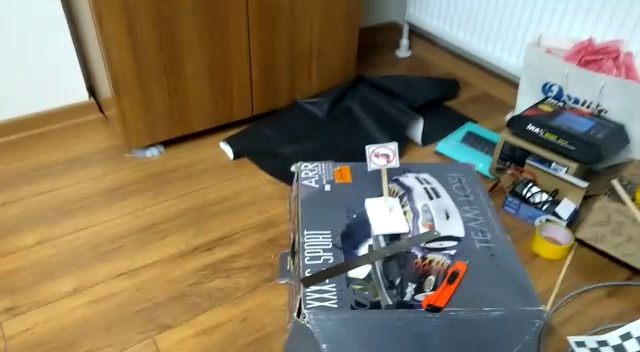sola_donulmez: (369, 143, 396, 171)
